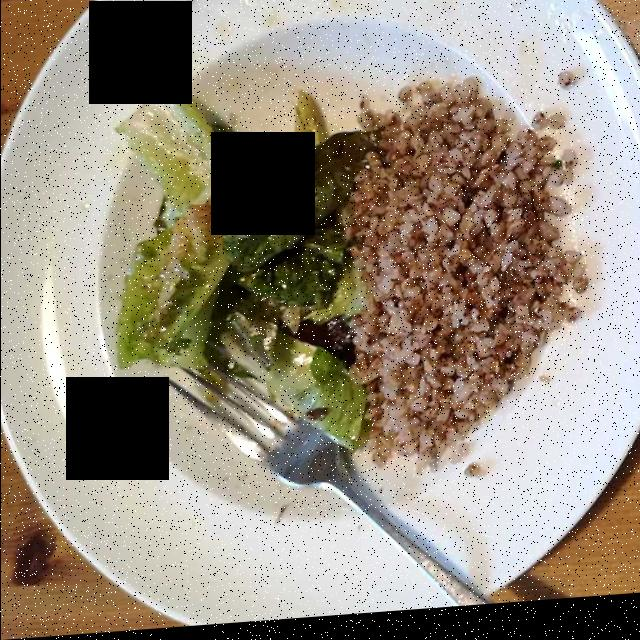buckwheat-grain-peeled: (354, 52, 589, 482)
salad-leaf-salad-green: (106, 82, 371, 458)
